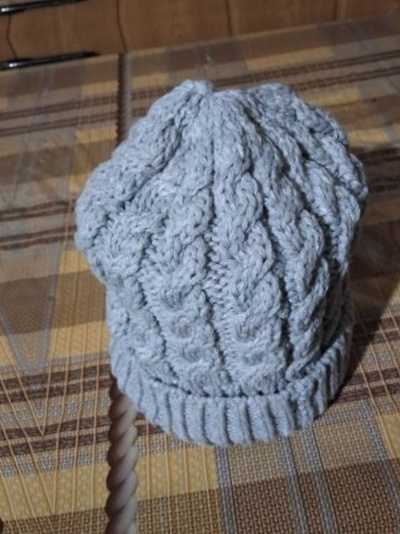Hat: (47, 51, 400, 468)
